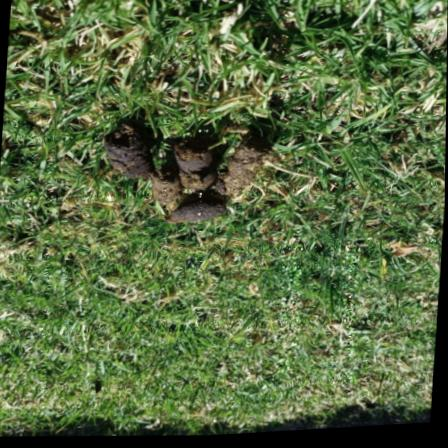dog-poop: (104, 115, 278, 243)
